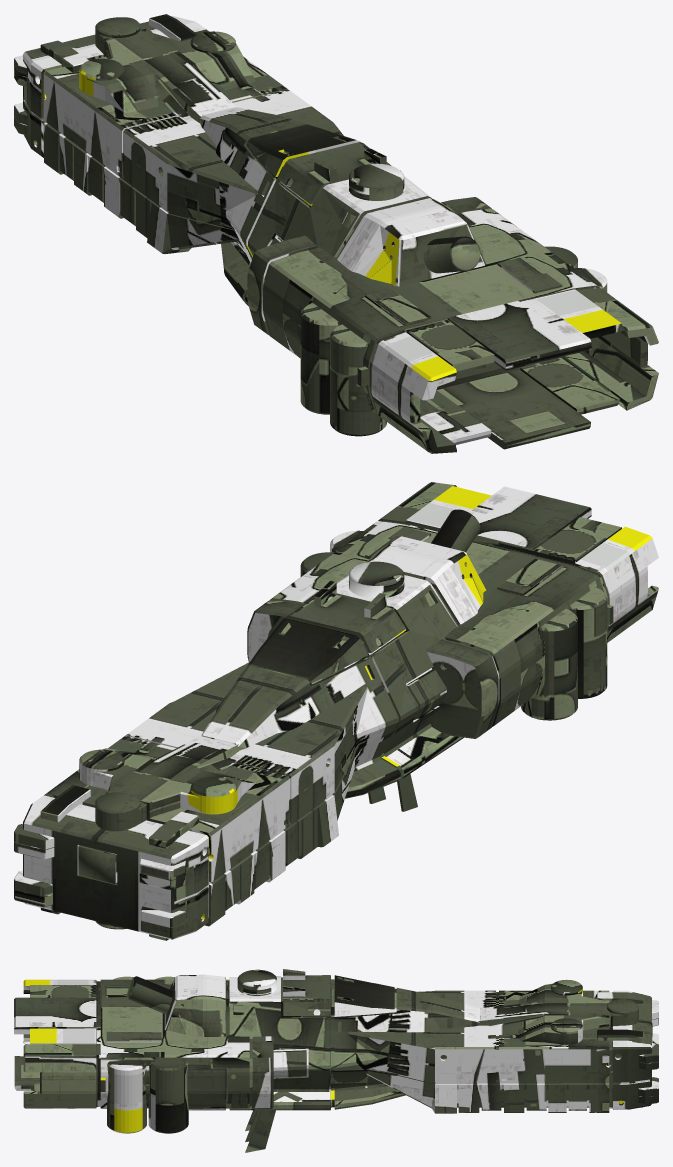
The model's file is tfpa_01_transport.obj.
3 views of the same model, one above another, from view 1: azimuth 30°, elevation 25°; view 2: azimuth 150°, elevation 25°; view 3: azimuth 270°, elevation 25° (orthographic). The views are drawn at different scales.
Parts seen in each view (by area): view 1: jorodoxShape.002; view 2: jorodoxShape.002; view 3: jorodoxShape.002.
Boxes of the visible parts, bbox=[...] form: jorodoxShape.002: bbox=[14, 14, 658, 453]; jorodoxShape.002: bbox=[14, 482, 658, 940]; jorodoxShape.002: bbox=[14, 969, 658, 1152].
Size of the model in its own units: 75.81 by 62.66 by 222.
